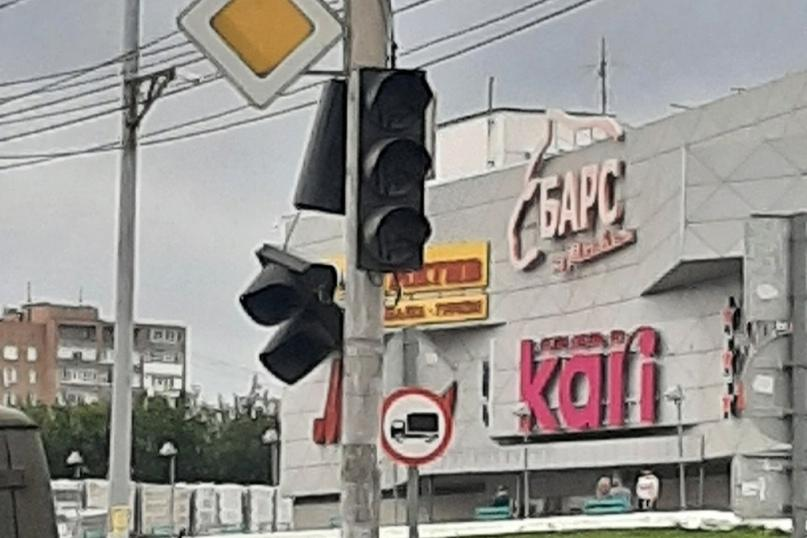off traffic light: (356, 67, 434, 275), (237, 242, 346, 387)
road_sign: (177, 0, 344, 107), (382, 388, 452, 464)
